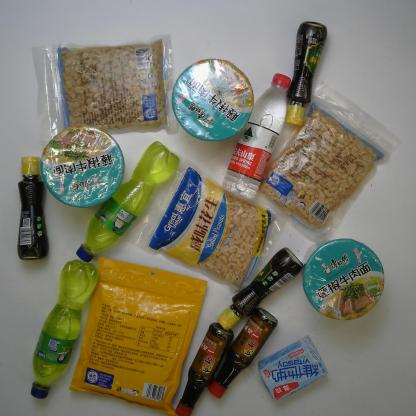Dried Fruit: (246, 80, 400, 244), (127, 151, 284, 296), (69, 257, 207, 413), (31, 33, 179, 148)
Drink: (76, 141, 179, 265), (29, 257, 98, 399), (222, 73, 291, 200)
Instant Noodles: (172, 60, 254, 142), (303, 239, 385, 321), (41, 126, 124, 207)
Milk: (258, 336, 328, 402)
Seasoner: (218, 247, 303, 331), (207, 308, 278, 398), (176, 323, 235, 414), (285, 22, 327, 126), (17, 157, 49, 260)
